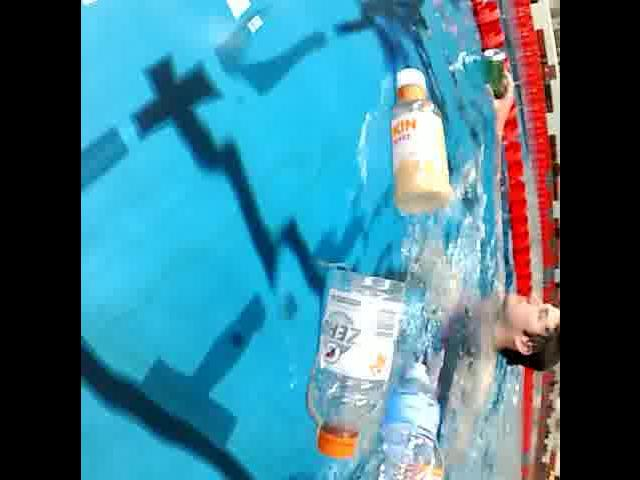Bottle: (299, 260, 411, 468), (329, 350, 435, 480), (379, 66, 453, 223), (378, 420, 448, 480)
Can: (473, 43, 509, 102)
